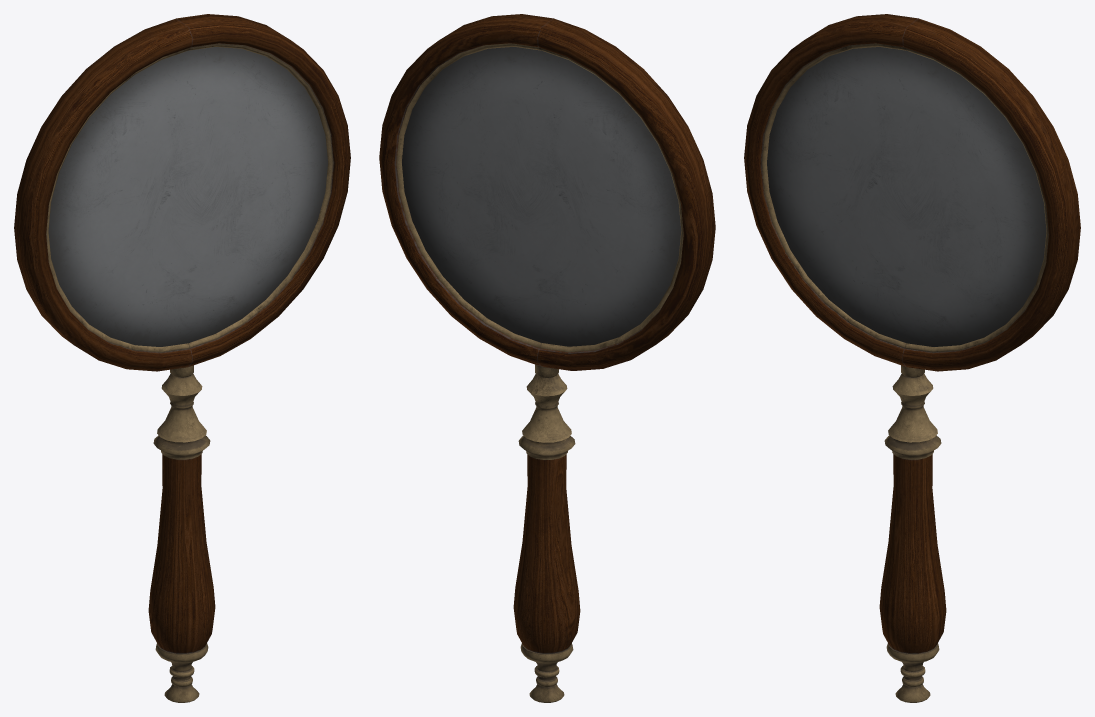
Rendered from Magnifier.fbx.
3 renders of one model, left to right at view 1: azimuth 30°, elevation 25°; view 2: azimuth 150°, elevation 25°; view 3: azimuth 330°, elevation 25°, orthographic.
Visible parts, largest first — view 1: Magnifier_glass, Magnifier; view 2: Magnifier_glass, Magnifier; view 3: Magnifier_glass, Magnifier.
Part boxes in pixels (bbox=[...]): Magnifier_glass: bbox=[48, 47, 327, 346]; Magnifier: bbox=[14, 14, 350, 702]; Magnifier_glass: bbox=[402, 47, 681, 346]; Magnifier: bbox=[379, 14, 715, 702]; Magnifier_glass: bbox=[767, 47, 1046, 346]; Magnifier: bbox=[744, 14, 1080, 702].
Size of the model in its own units: 9.57 by 18.99 by 1.72.
